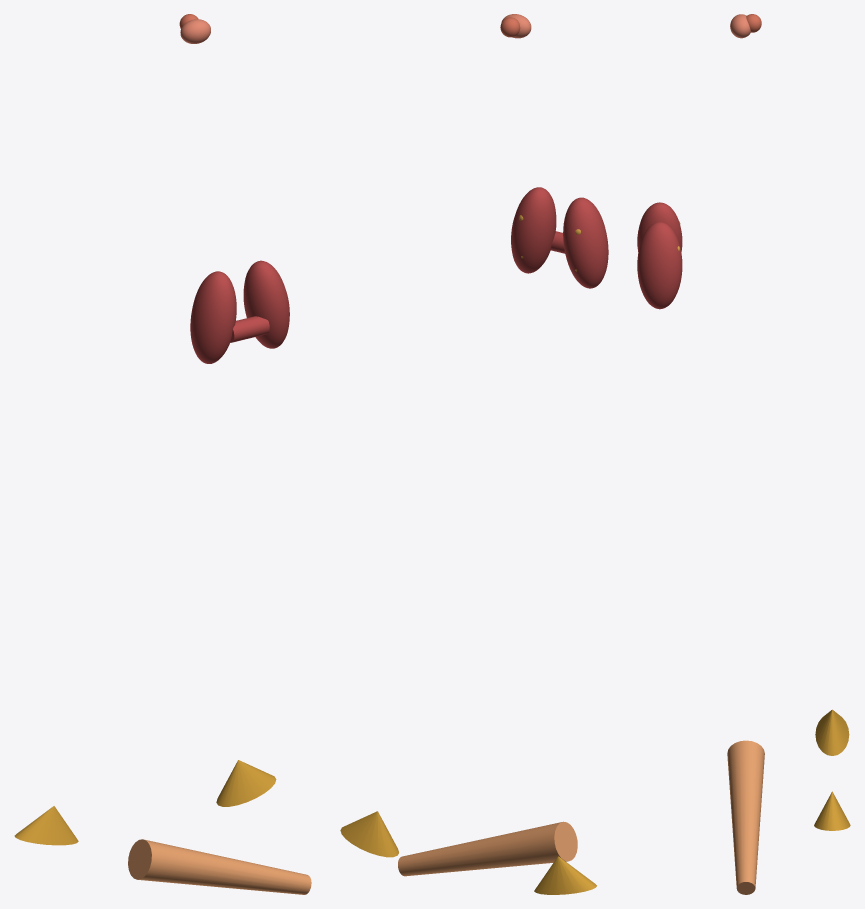
The model's file is 08_endocrine.glb.
The picture shows the model from 3 angles, left to right: view 1: azimuth 30°, elevation 25°; view 2: azimuth 150°, elevation 25°; view 3: azimuth 270°, elevation 25°; orthographic projection. The views are drawn at different scales.
Parts seen in each view (by area): view 1: endocrine_pancreas_islets, thyroid_left_lateral_lobe, thyroid_right_lateral_lobe, right_adrenal_gland_suprarenal, left_adrenal_gland_suprarenal, thyroid_median_isthmus, anterior_pituitary_adenohypophysis; view 2: endocrine_pancreas_islets, thyroid_left_lateral_lobe, thyroid_right_lateral_lobe, right_adrenal_gland_suprarenal, left_adrenal_gland_suprarenal; view 3: endocrine_pancreas_islets, thyroid_right_lateral_lobe, left_adrenal_gland_suprarenal, thyroid_left_lateral_lobe, right_adrenal_gland_suprarenal.
Boxes of the visible parts, x1,y1,x2,y2 form: endocrine_pancreas_islets: (128,839,311,894); thyroid_left_lateral_lobe: (190,271,236,363); thyroid_right_lateral_lobe: (243,260,289,348); right_adrenal_gland_suprarenal: (216,760,276,806); left_adrenal_gland_suprarenal: (14,806,78,845); thyroid_median_isthmus: (230,316,269,342); anterior_pituitary_adenohypophysis: (180,19,210,43); endocrine_pancreas_islets: (398,821,577,876); thyroid_left_lateral_lobe: (563,197,608,288); thyroid_right_lateral_lobe: (511,187,556,273); right_adrenal_gland_suprarenal: (340,811,398,857); left_adrenal_gland_suprarenal: (534,856,596,894); endocrine_pancreas_islets: (727,740,764,894); thyroid_right_lateral_lobe: (637,222,682,309); left_adrenal_gland_suprarenal: (815,709,849,755); thyroid_left_lateral_lobe: (637,202,682,251); right_adrenal_gland_suprarenal: (814,791,850,830).
Bounding box in the file's own units: 0.1754 × 0.5849 × 0.1361.
